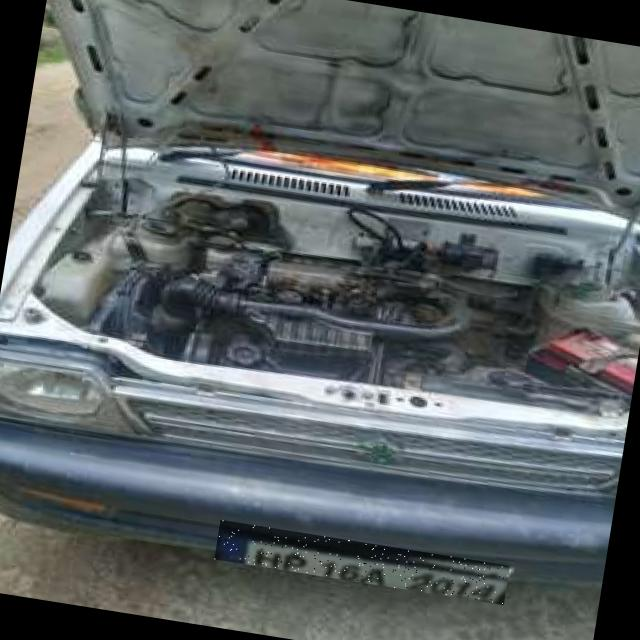Plate: (215, 521, 511, 606)
